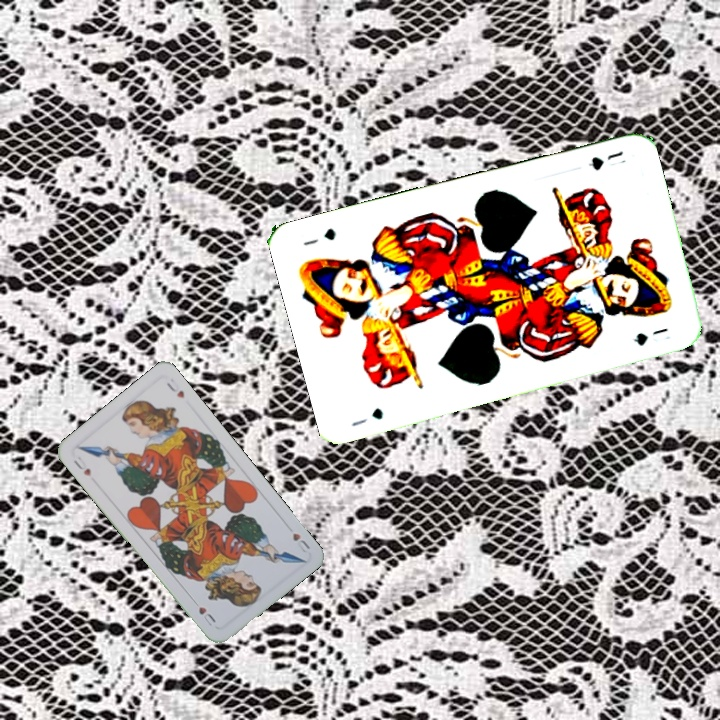GU: (584, 146, 629, 173), (347, 403, 386, 429)
HU: (69, 452, 94, 479), (288, 529, 313, 555)
